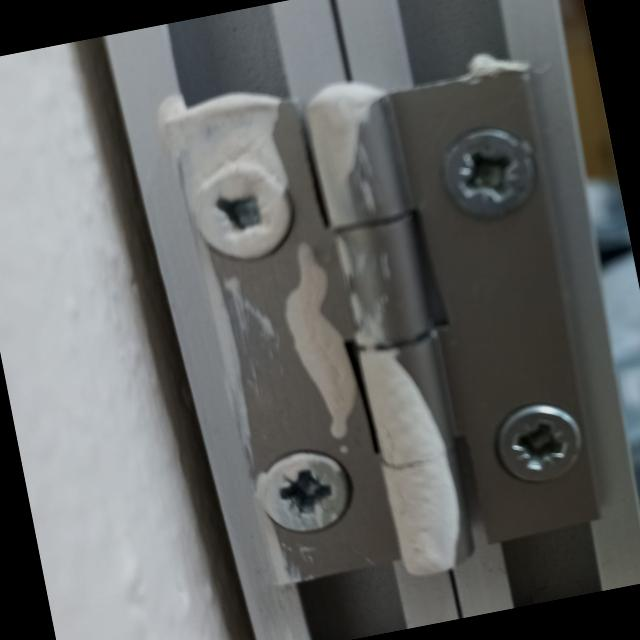Pozidriv: (486, 389, 604, 496), (433, 116, 542, 228), (252, 451, 359, 540)
